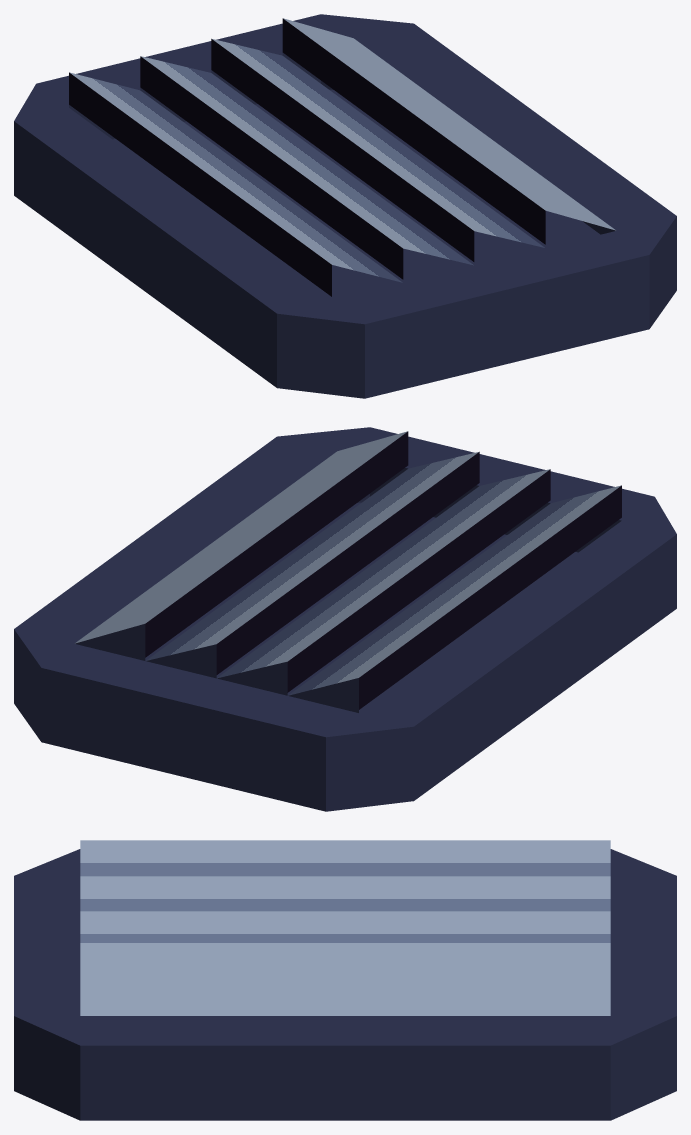
Rendered from Vent.fbx.
The picture shows the model from 3 angles, top to bottom: view 1: azimuth 30°, elevation 25°; view 2: azimuth 150°, elevation 25°; view 3: azimuth 270°, elevation 25°; orthographic projection.
Parts seen in each view (by area): view 1: Cube; view 2: Cube; view 3: Cube.
Part boxes in pixels (x1,y1,x2,y2): Cube: (14,14,676,398); Cube: (14,427,676,811); Cube: (14,840,676,1120).
Size of the model in its own units: 141 by 37.59 by 200.
1 material, 1 textured.
